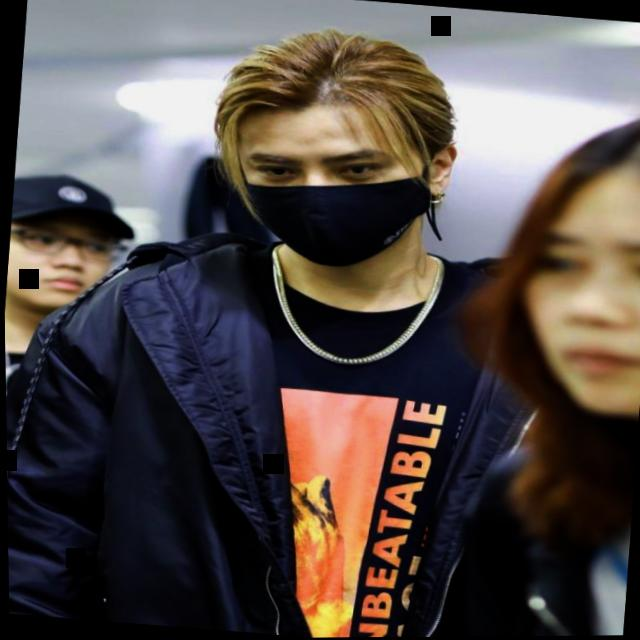Mask: (190, 12, 475, 285)
NO-Mask: (483, 96, 640, 428), (2, 163, 136, 318)
